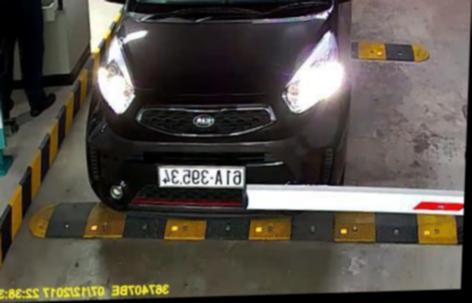License_Plate: (155, 164, 246, 191)
